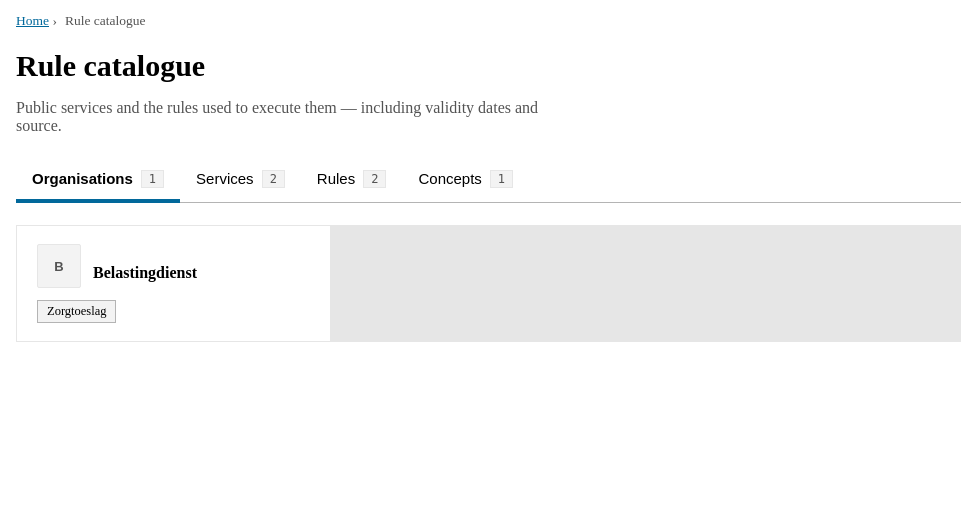
Regelcatalogus › Rules tab: links on to the service page, in English
Click the tab "Rules 2". click: click(352, 181)
box: [301,159,402,203]
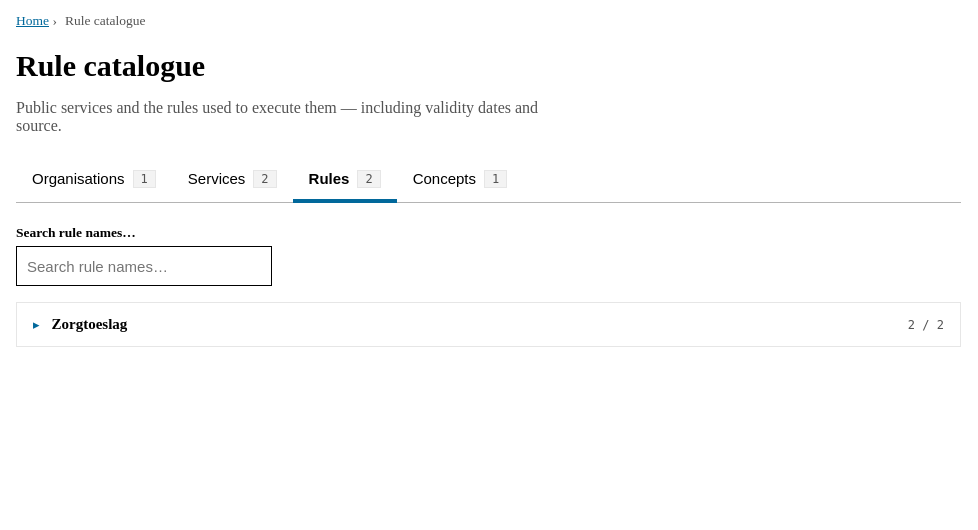
Click the heading "Zorgtoeslag 2 / 2". click: click(89, 324)
box: [52,316,944,332]
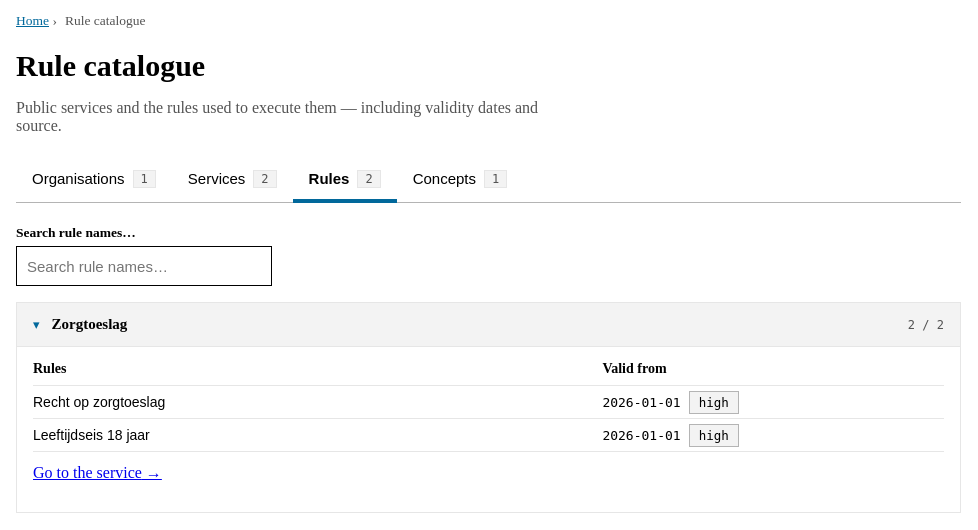
Check: the link "Go to the service →" is shown, box [33,464,162,481]
